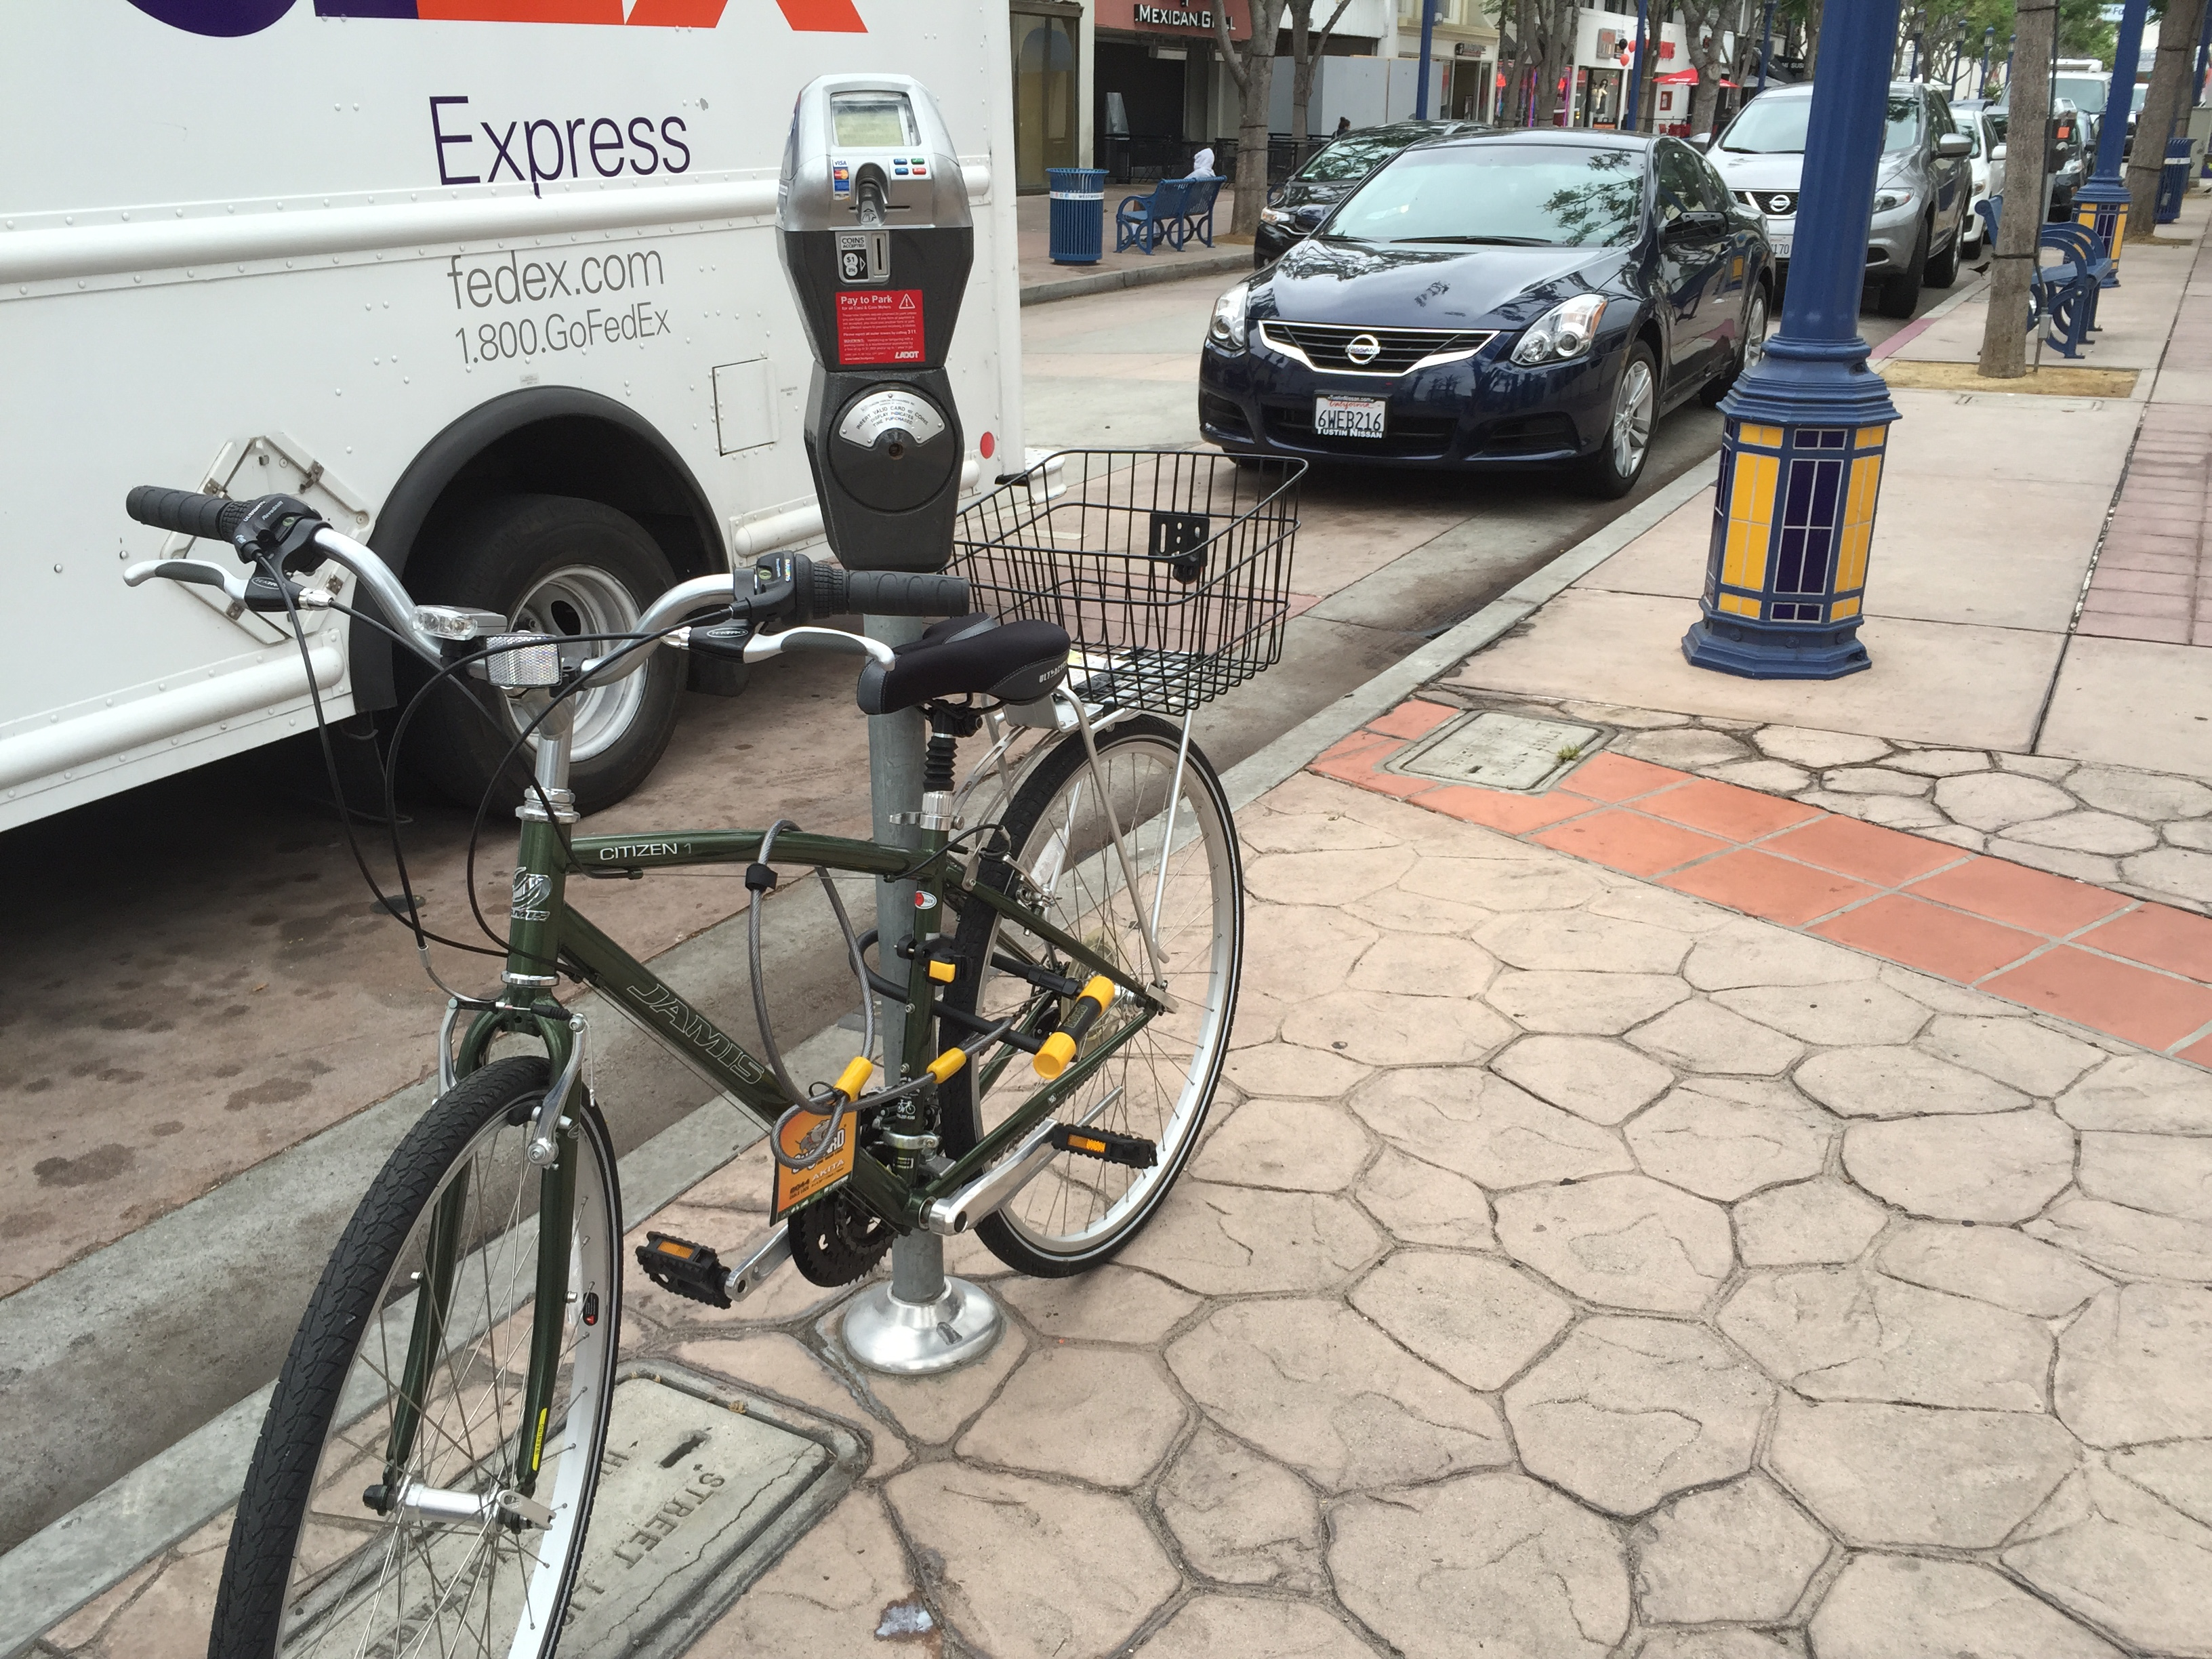bike: (92, 418, 1327, 1659)
